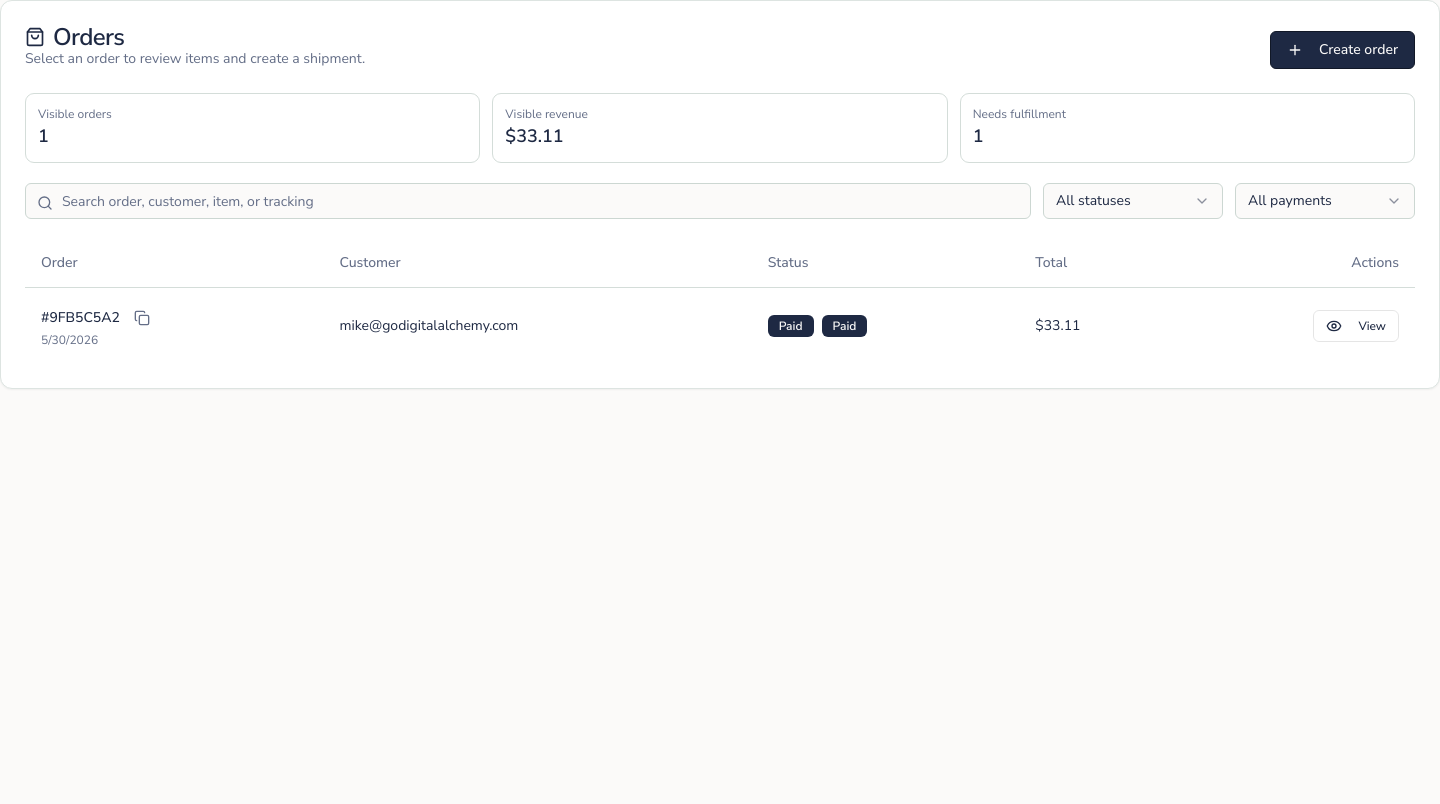
Scenario: Ecommerce OrdersTab › opens the order detail drawer from the row and shows customer and shipping data
Click the button that starts with "#9FB5C5A2". click: [80, 317]
box: [25,287,1415,364]
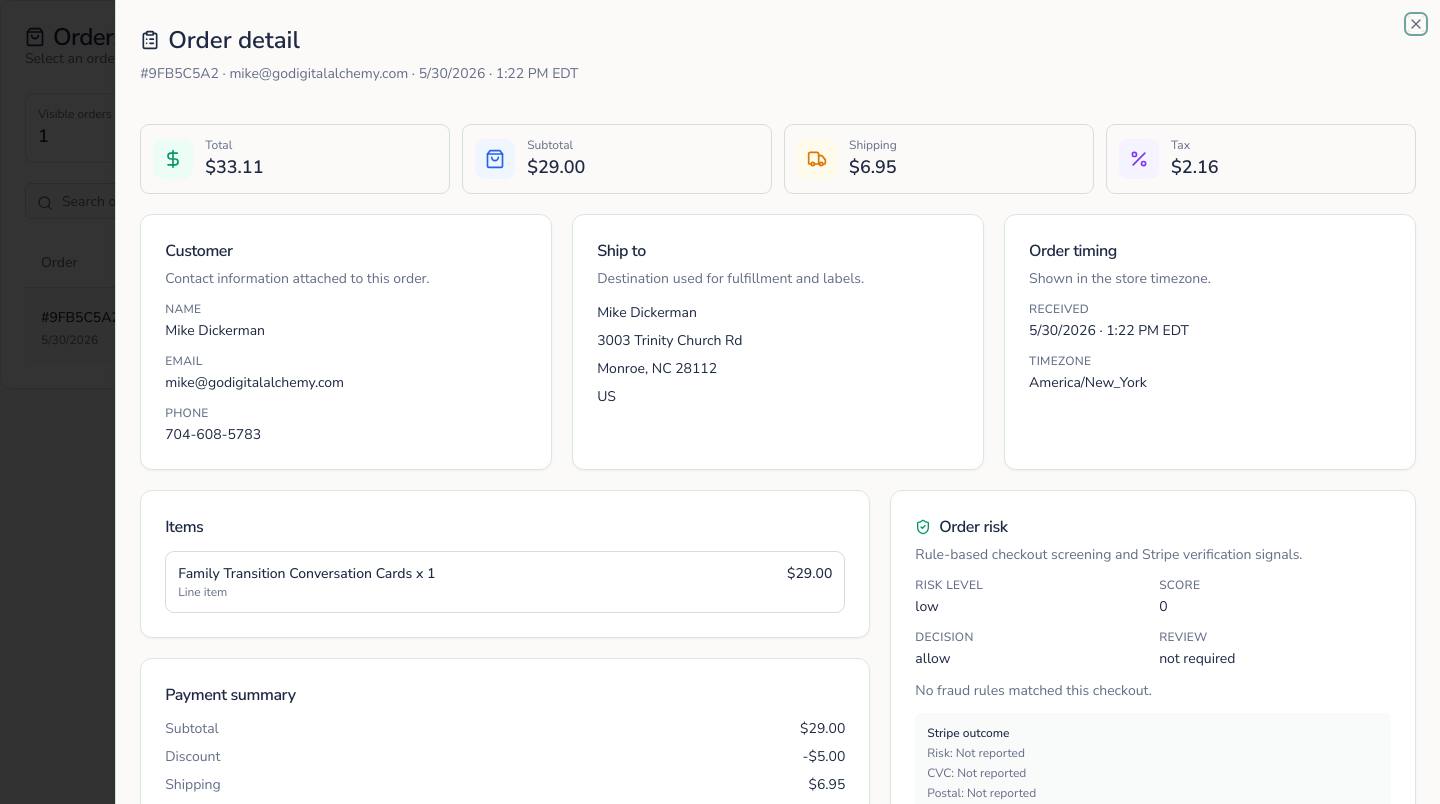
expect the text "Order detail" is shown: met, box [140,24,300,56]
expect the text "Ship to" is shown: met, box [597,240,646,262]
expect the text "Mike Dickerman" is shown: met, box [165,321,265,340]
